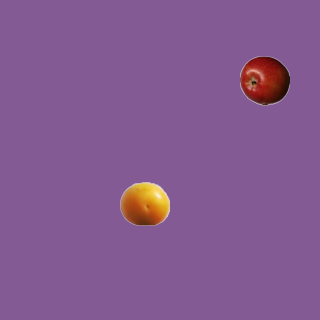Apple Braeburn: (239, 55, 289, 105)
Cherry Wax Yellow: (119, 178, 169, 228)
